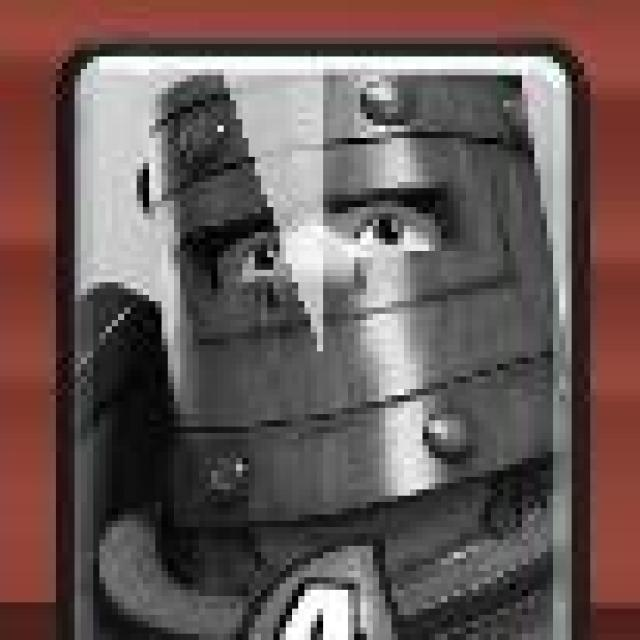Dark_Prince: (47, 35, 595, 640)
